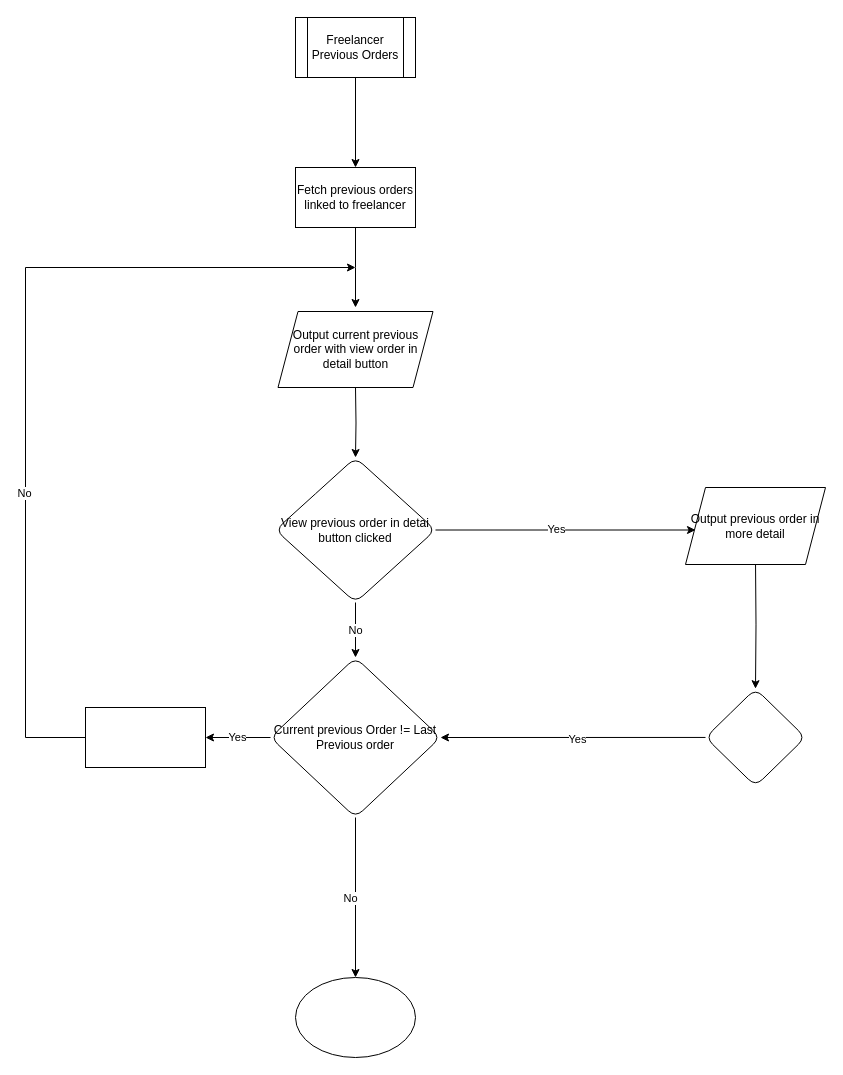
Image size: 843x1075. Some labels were removed from this diagram. The centre of each missing label's shape, as x and y in pixels:
"Back button clicked" belongs at (x=755, y=737).
"Go to next freelancer previous order" belongs at (x=145, y=737).
"Stop" belongs at (x=355, y=1017).
